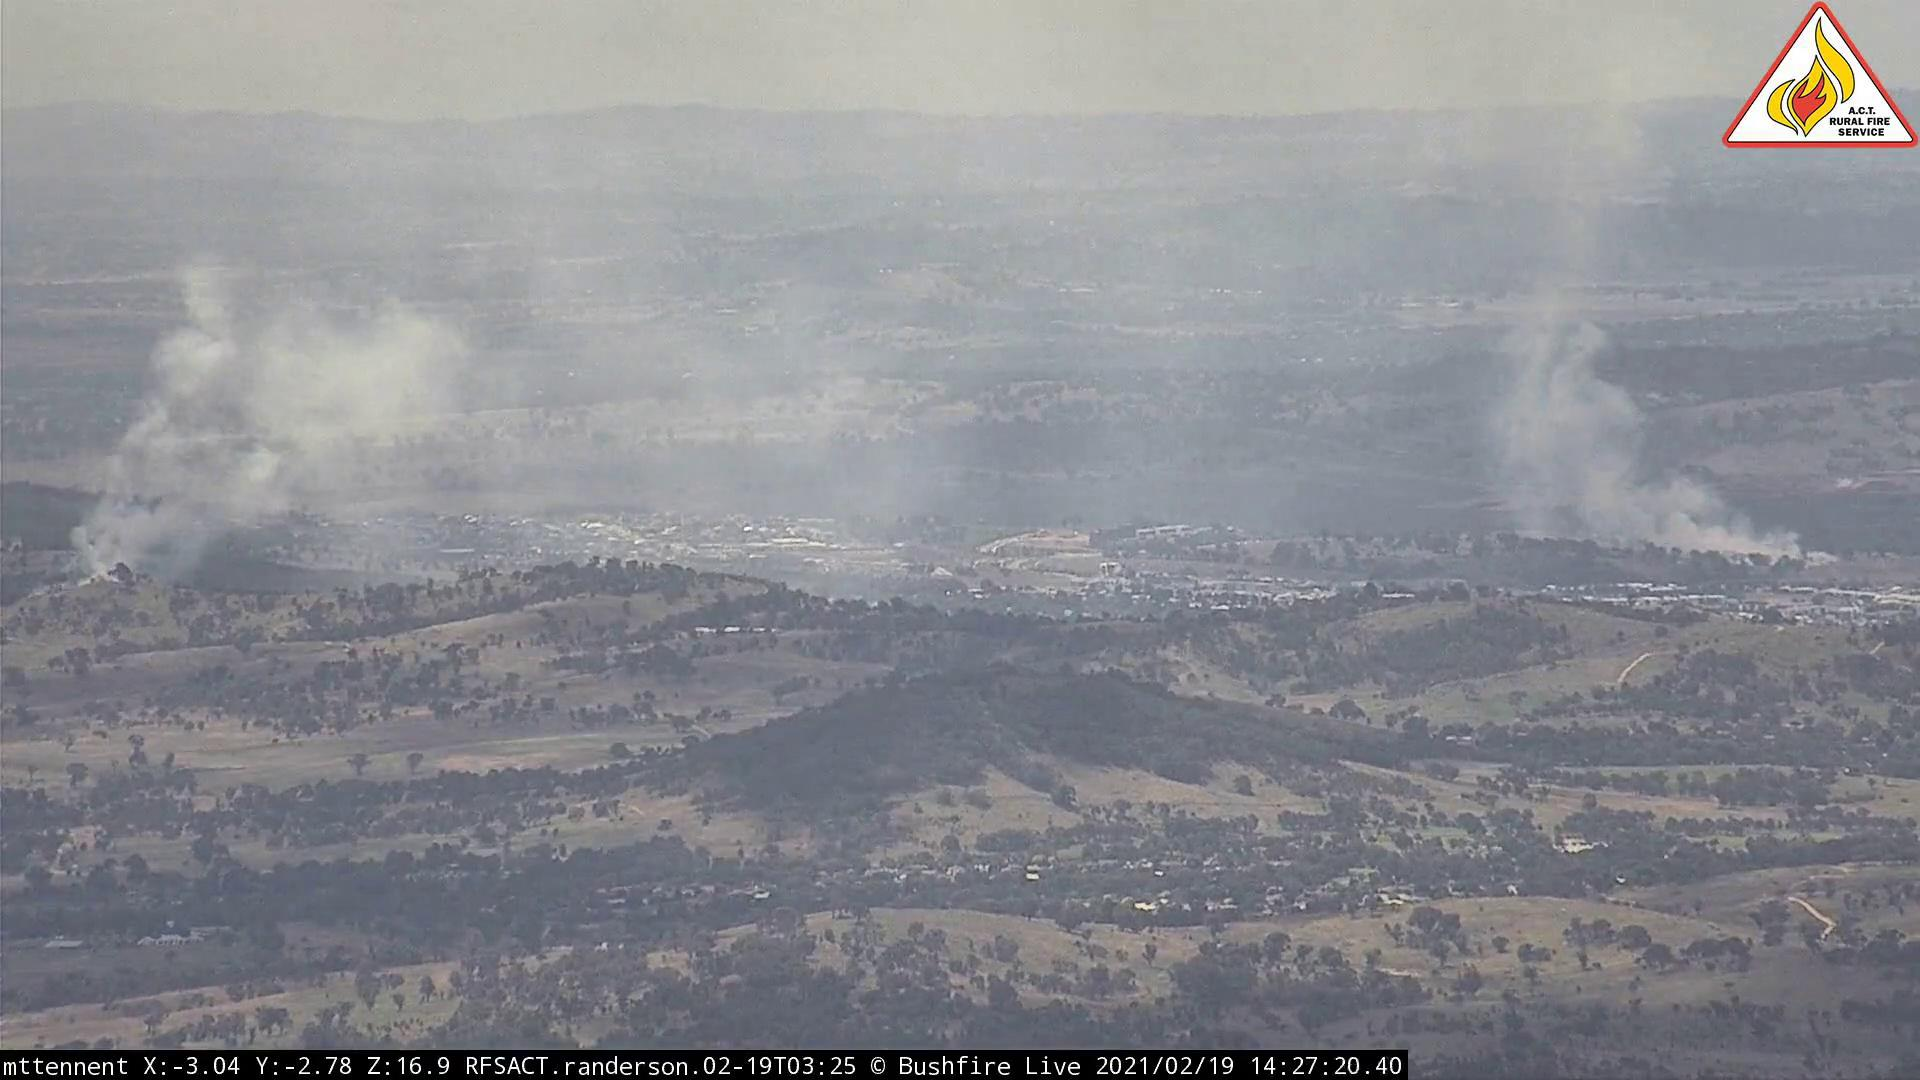Smoke: (42, 239, 537, 599), (1396, 266, 1847, 572)
